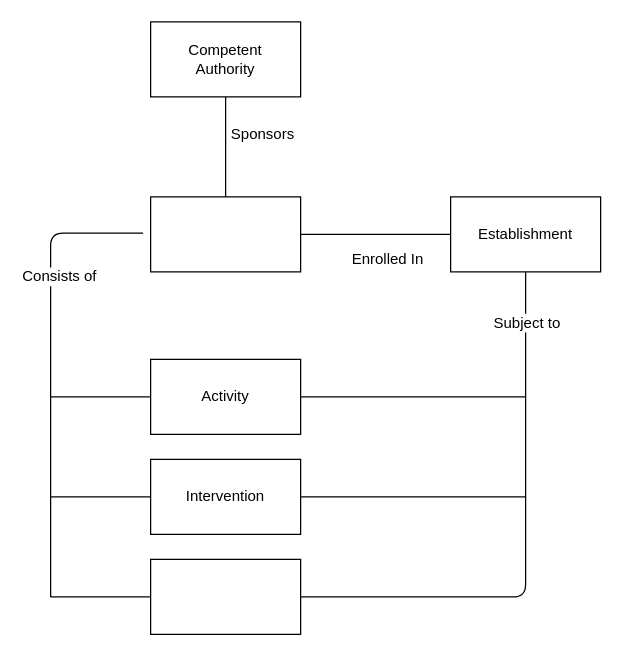
This 623x656 diagram has some shape labels left out. Here are the shapes that lost their labels. From the top down, the centre of each, then its label:
[225,234]: Scheme
[225,596]: Enforcement
